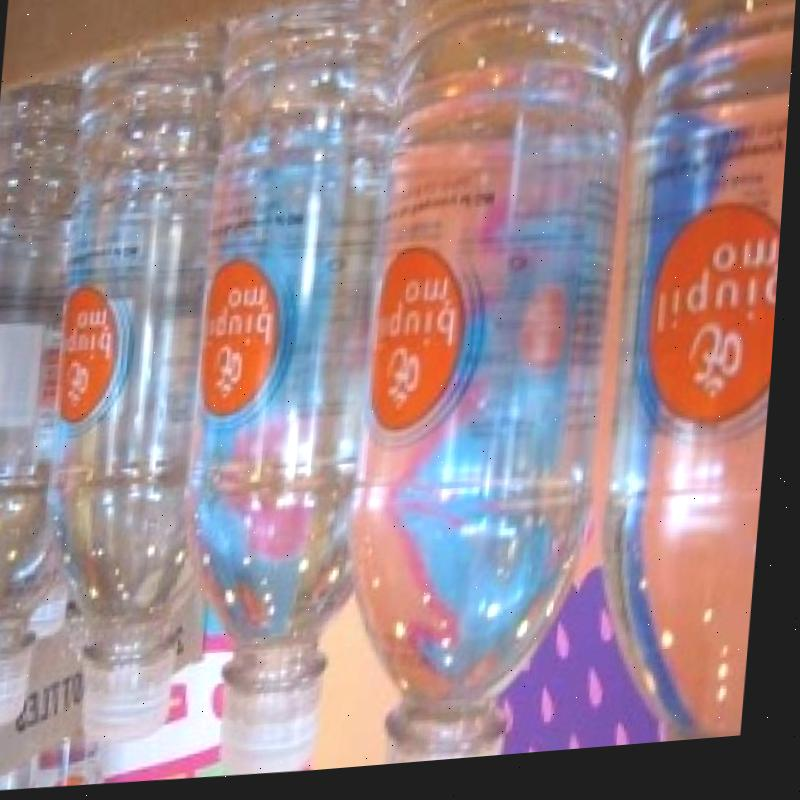botella: (350, 0, 647, 775), (188, 0, 407, 784), (588, 0, 800, 760), (49, 13, 248, 747), (0, 67, 102, 736), (37, 577, 79, 640)
